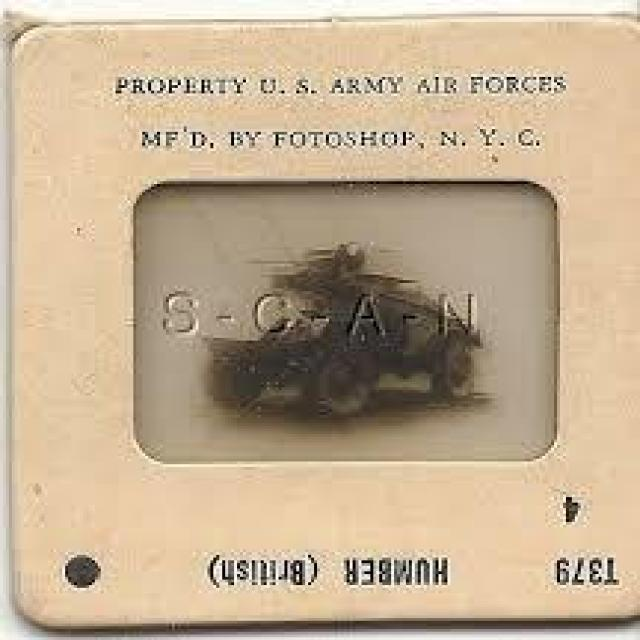ambulance: (189, 219, 522, 436)
